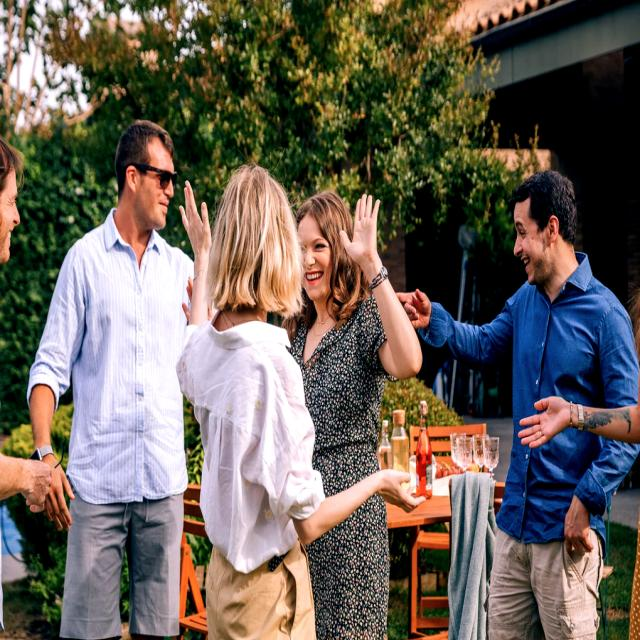adult: (394, 167, 636, 640), (179, 167, 417, 640), (29, 119, 204, 640), (286, 185, 423, 640)
